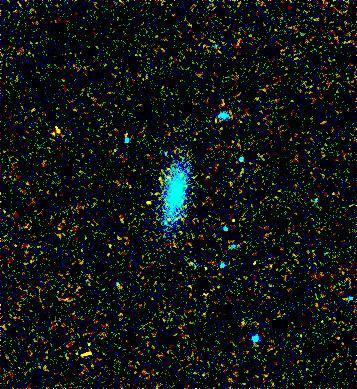star: (133, 188, 163, 218)
